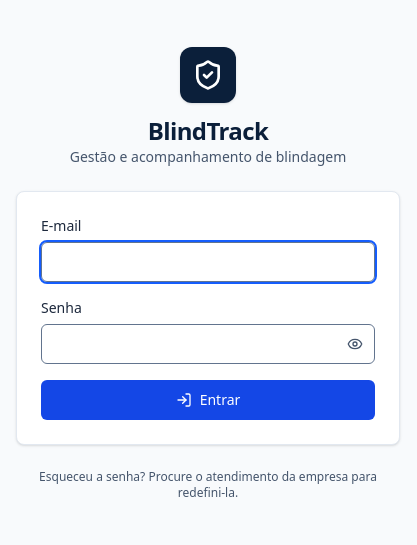
Test case: Login › mostra a mensagem da API para HTTP 401
This screenshot has width=417, height=545.
Type "alguem@exemplo.example" into the field labelled "E-mail" at (208, 262), box [41,242,375,282]
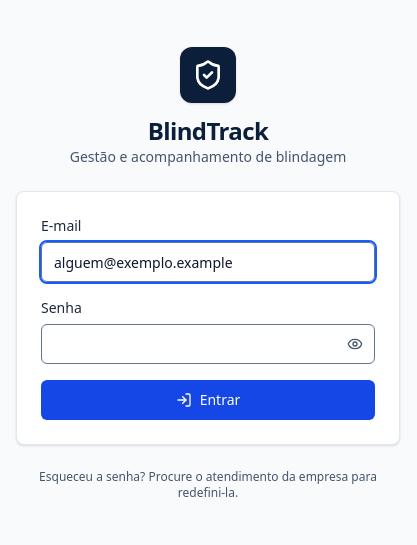
Type "qualquer" into the password field labelled "Senha" at (208, 344), box [41,324,375,364]
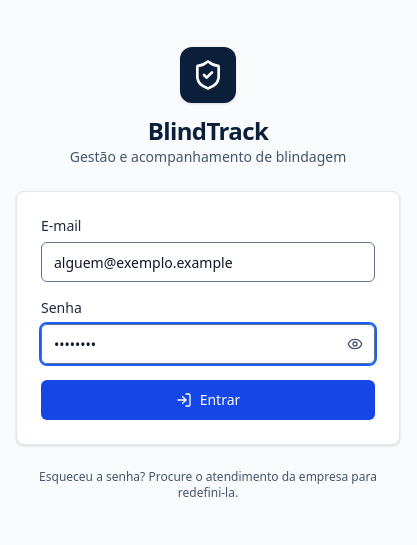
Click the button "Entrar" at (208, 400), box [41,380,375,420]
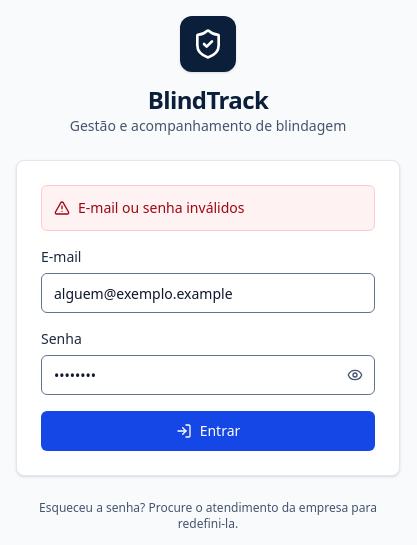
Check: the message reads "E-mail ou senha inválidos", box [78,198,244,217]
